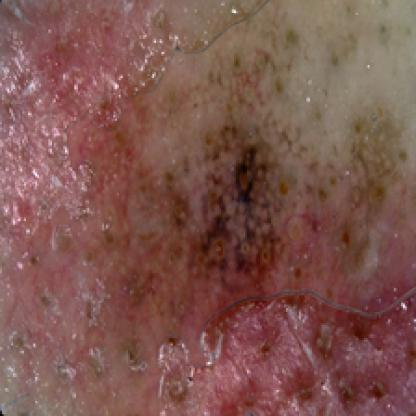malignant: (50, 35, 409, 410)
